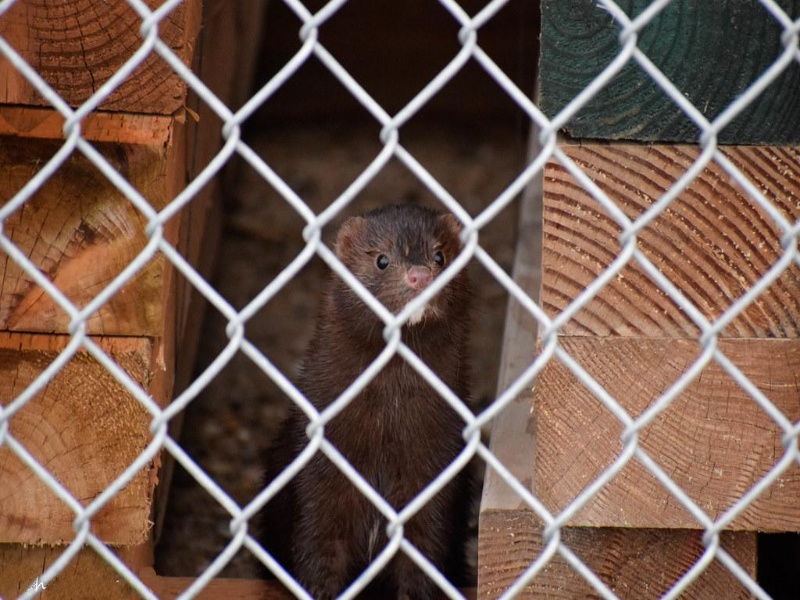minkish: (255, 206, 469, 600)
